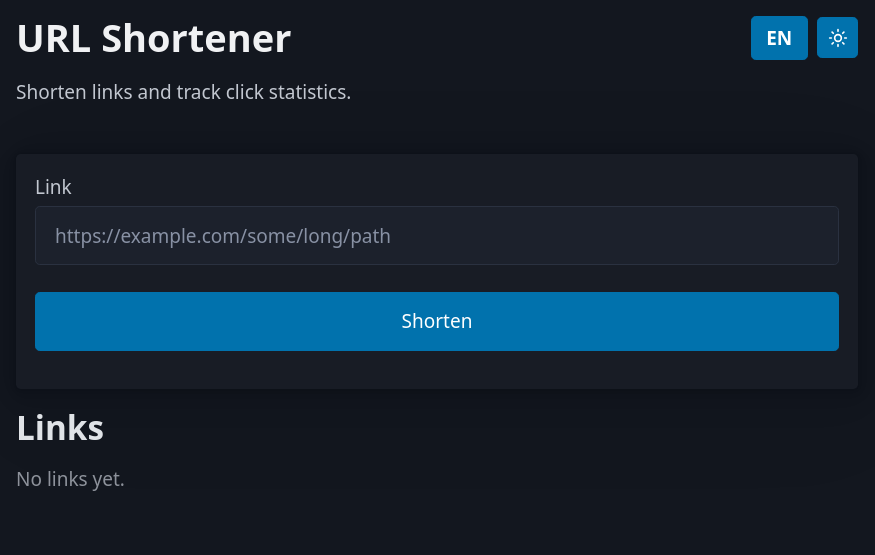
App › shows an error when creation fails
Expected: the text "No links yet." is shown, [16, 466, 125, 492]
Type "nope" into the field labelled "Link" at coordinates (437, 236), box [35, 206, 839, 265]
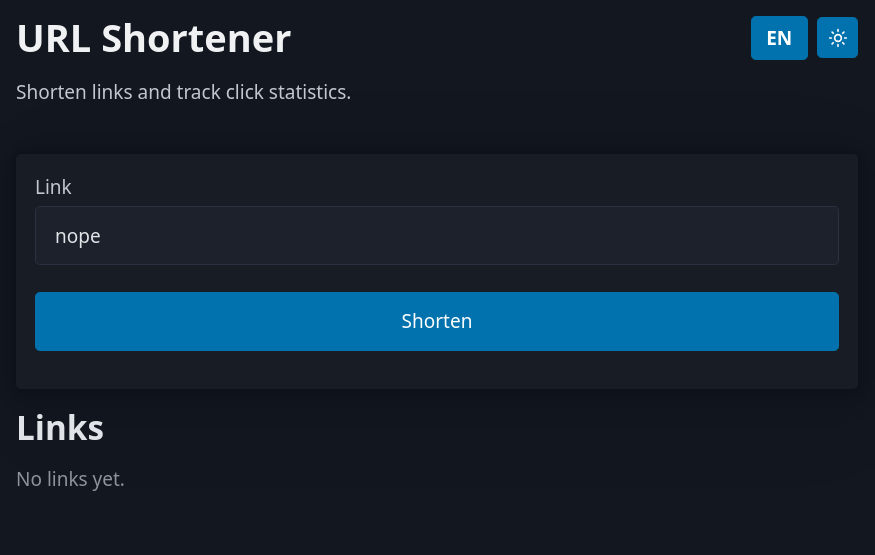
Submit the form labelled "Link", box [35, 173, 839, 370]
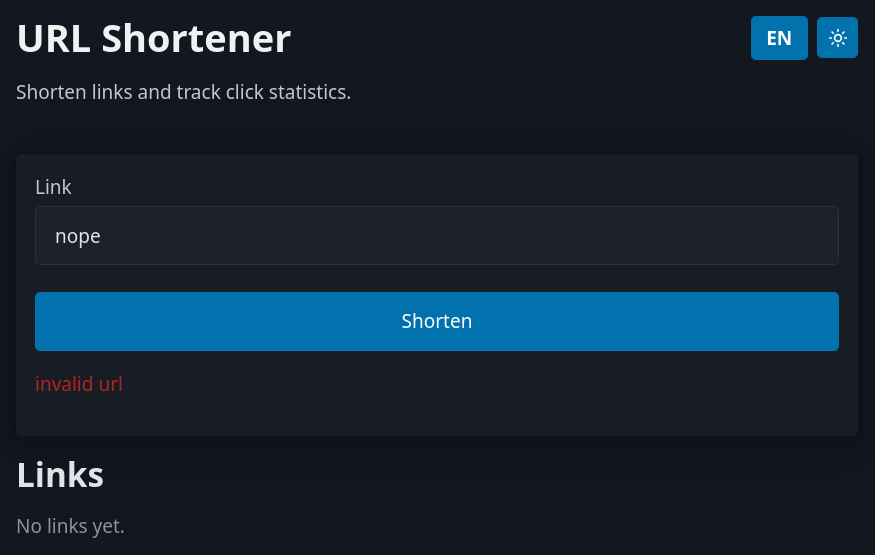
Expected: the message reads "invalid url", [35, 370, 123, 396]
